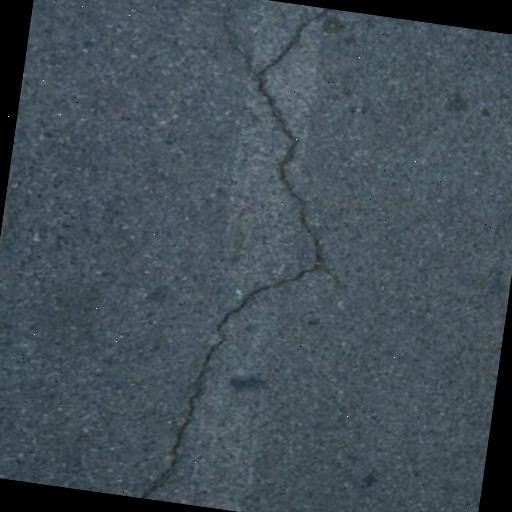spalling: (128, 11, 336, 497)
